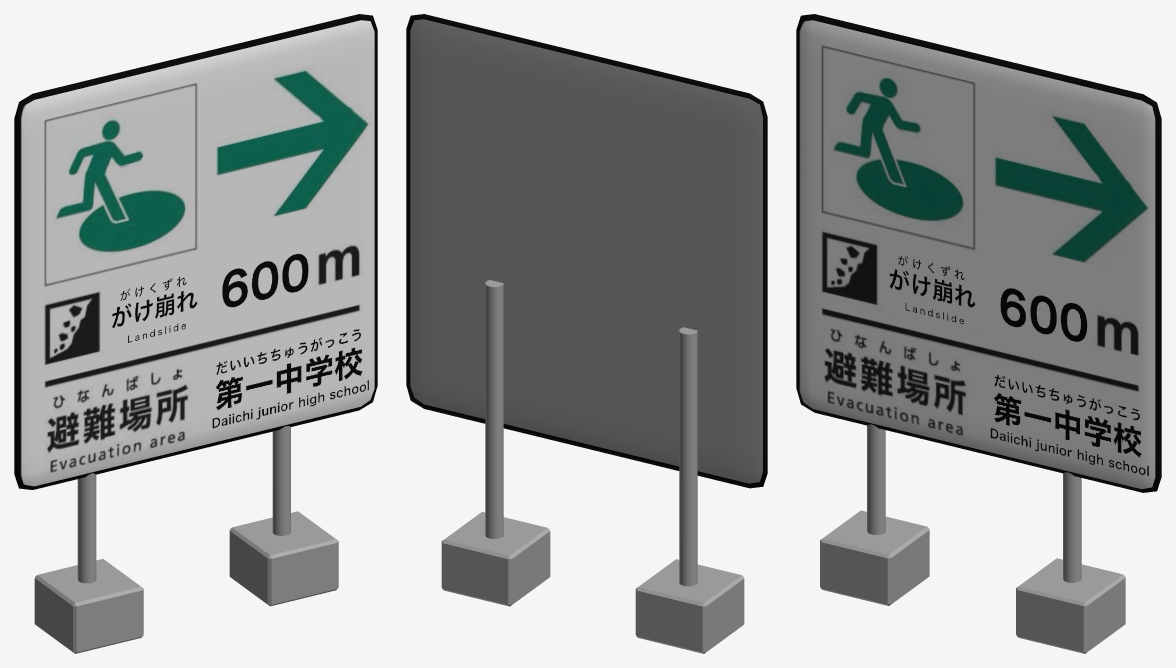
The model's file is School.fbx.
3 views of the same model, side by side, from view 1: azimuth 30°, elevation 25°; view 2: azimuth 150°, elevation 25°; view 3: azimuth 330°, elevation 25° (orthographic).
Visible parts, largest first — view 1: School; view 2: School; view 3: School.
Part boxes in pixels (x1,y1,x2,y2): School: (14,14,377,653); School: (406,14,767,653); School: (796,14,1161,653).
Size of the model in its own units: 0.91 by 1.33 by 0.1779.
Materials: 3 (1 with a texture image).
